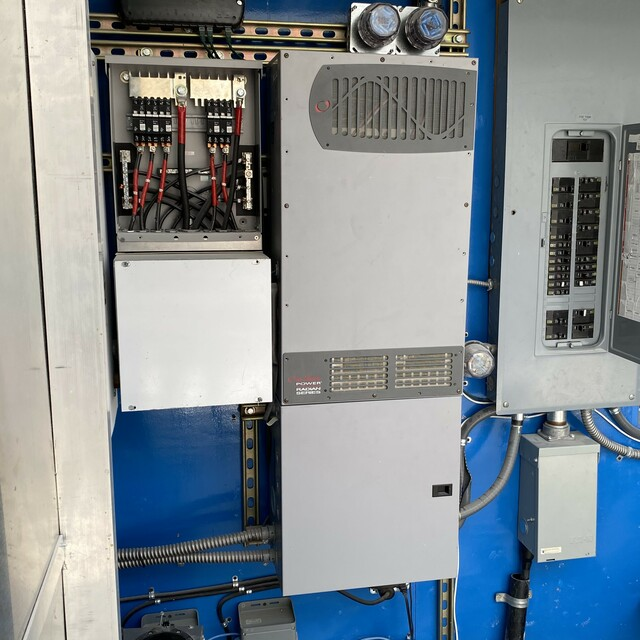inverter: (261, 36, 490, 596)
